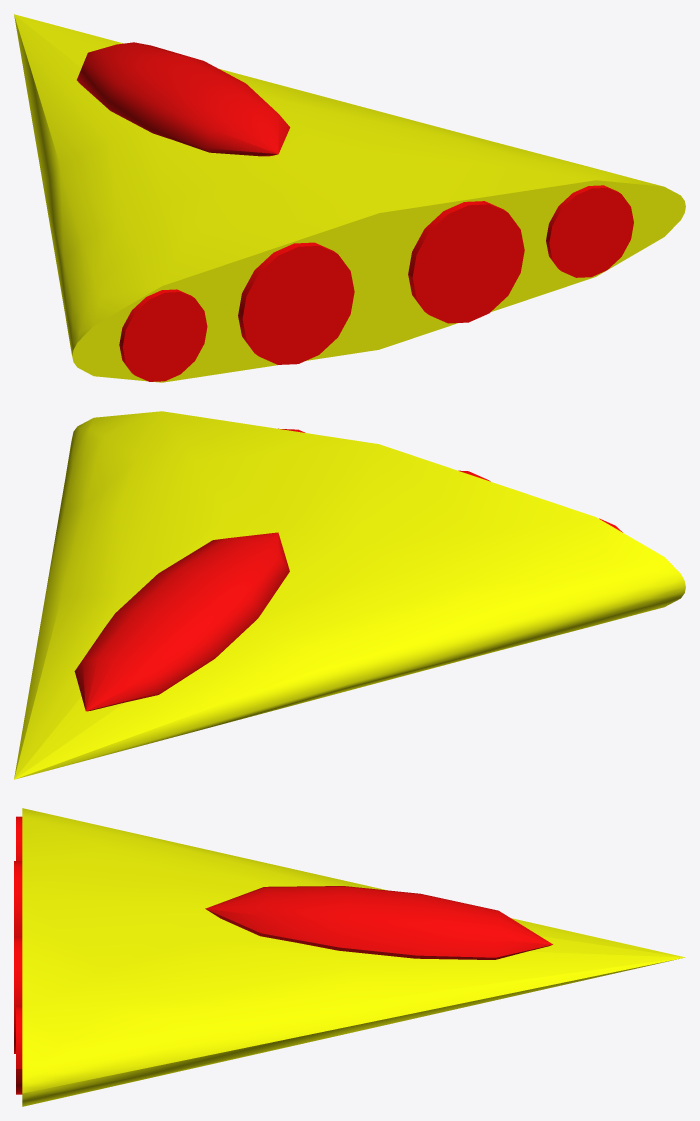
The model's file is ship.obj.
The picture shows the model from 3 angles, top to bottom: view 1: azimuth 30°, elevation 25°; view 2: azimuth 150°, elevation 25°; view 3: azimuth 270°, elevation 25°; orthographic projection. The views are drawn at different scales.
Size of the model in its own units: 9.97 by 2.15 by 10.4.
